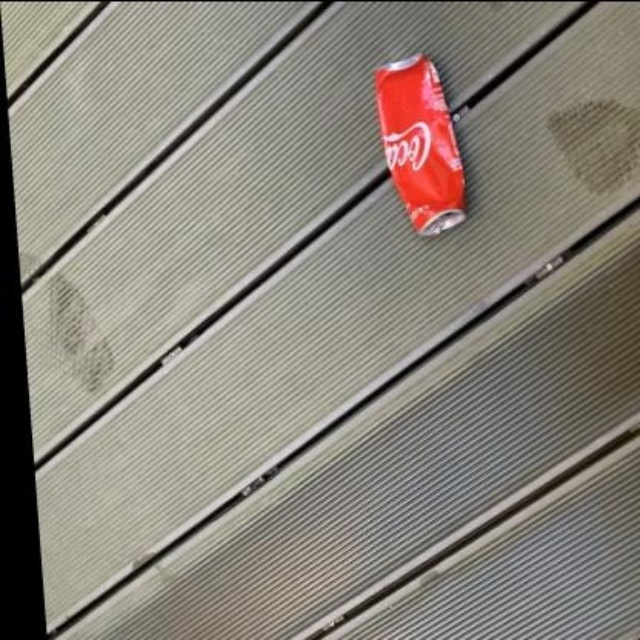trash: (375, 54, 465, 234)
